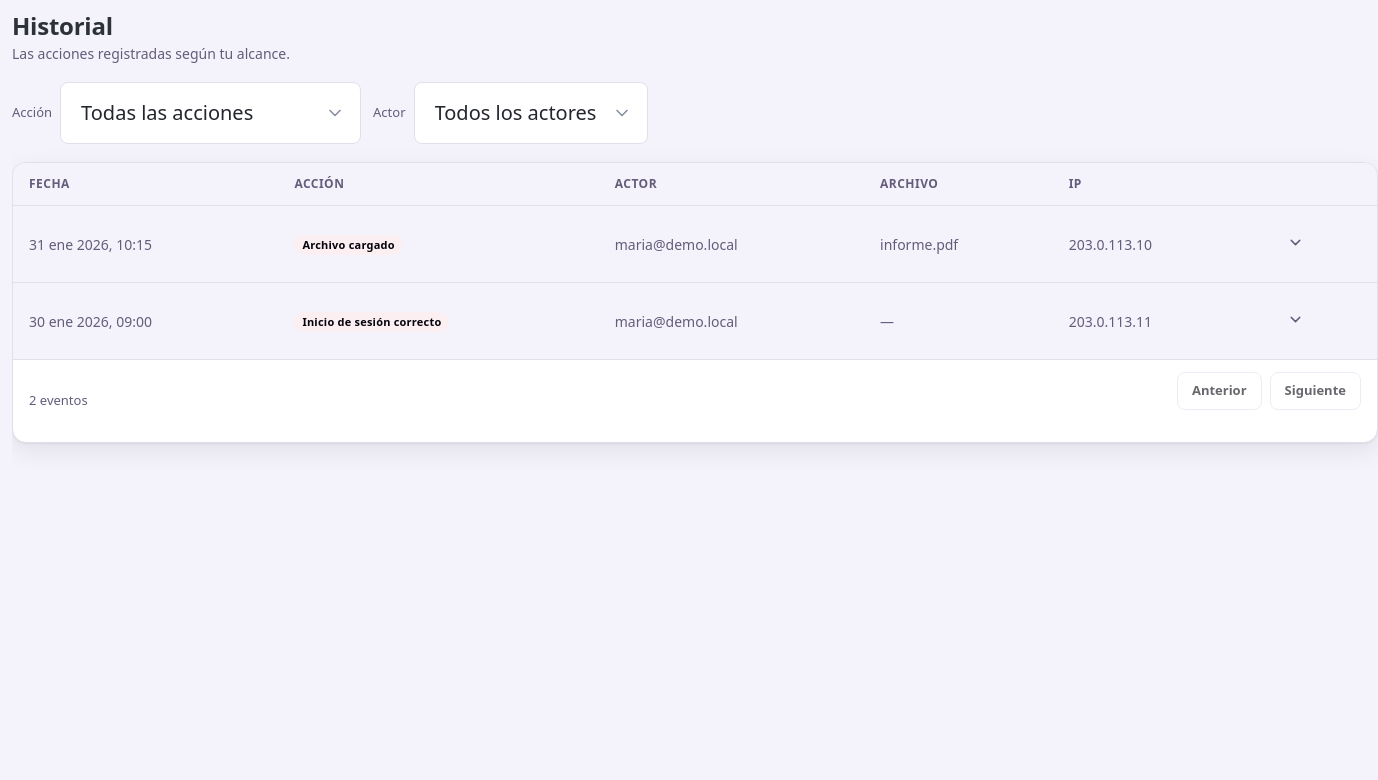
página de historial › lista los eventos y despliega el detalle de la fila
The image size is (1378, 780).
Check: the text "informe.pdf" is shown, box [864,206,1053,282]
Check: the text "Archivo cargado" is shown, box [294,235,403,255]
Click the button named "Ver detalle" in the row of "31 ene 2026, 10:15" at (1287, 234), box [1266,218,1308,250]
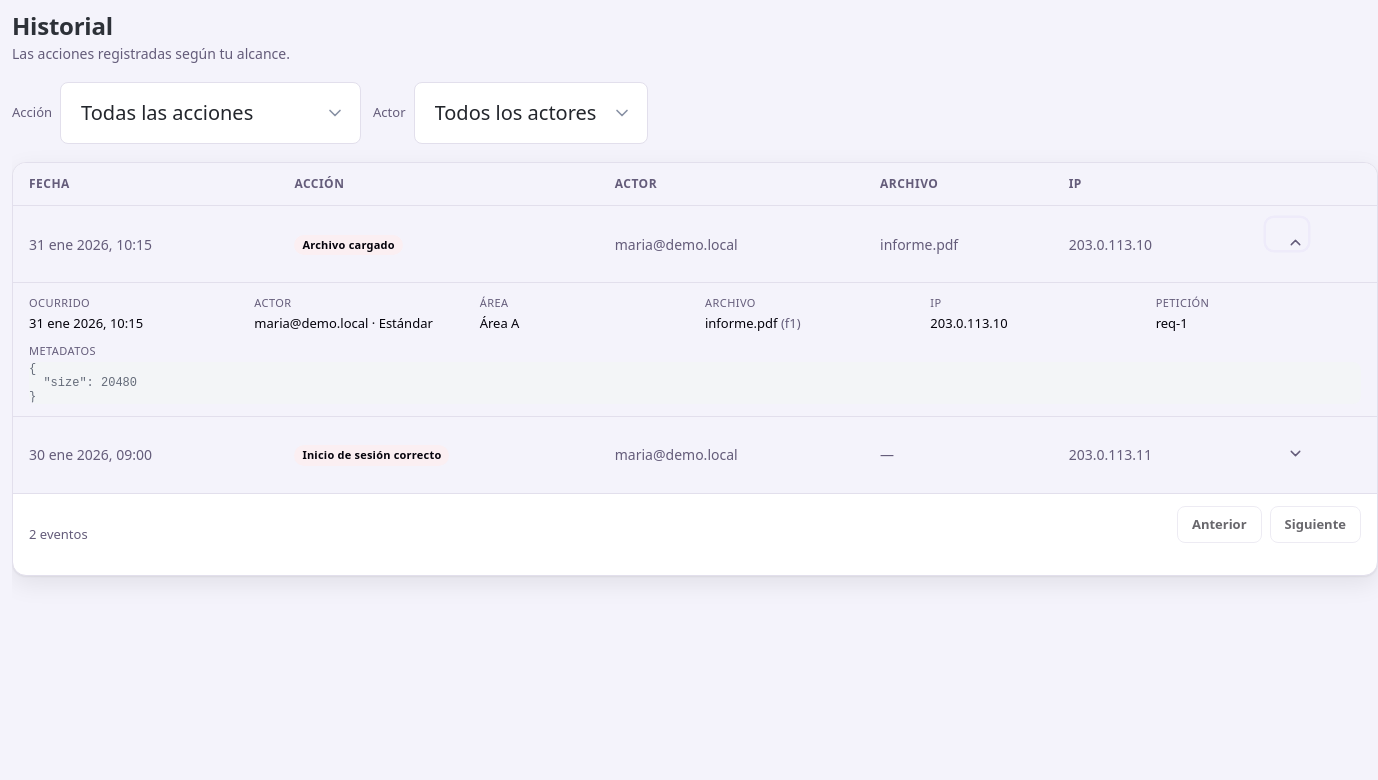
Check: the text "req-1" is shown, box [1156,314,1188,332]
Check: the text "{ \"size\": 20480 }" is shown, box [29,362,1361,404]
